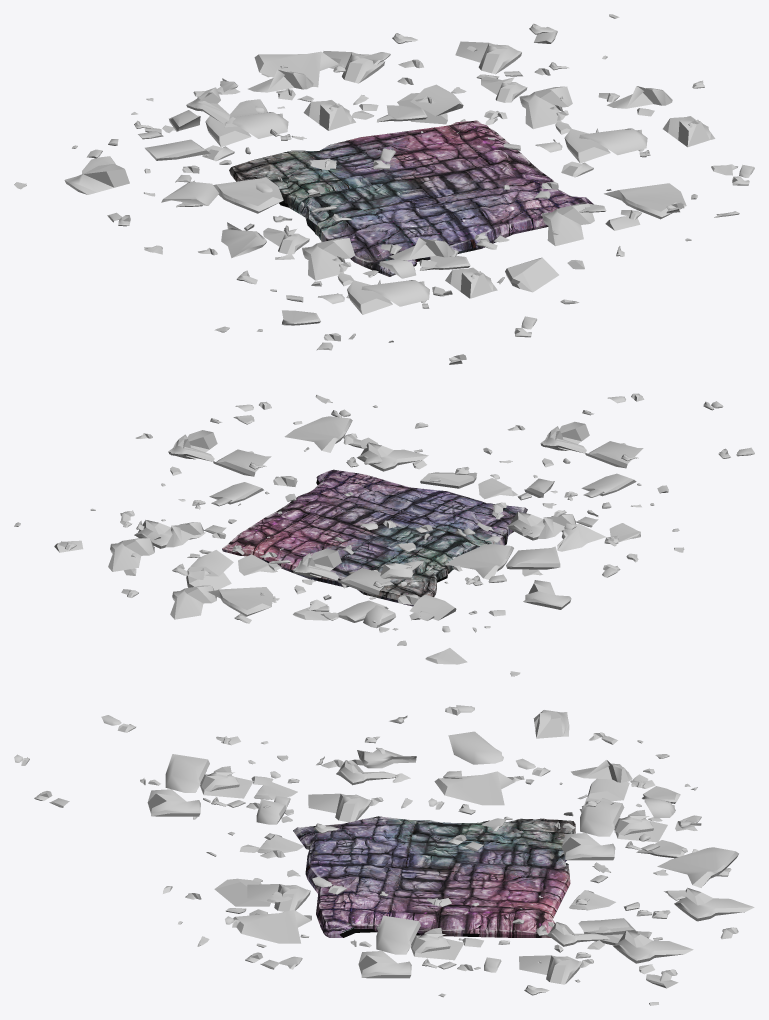
File: Platform.fbx
3 views of the same model, one above another, from view 1: azimuth 30°, elevation 25°; view 2: azimuth 150°, elevation 25°; view 3: azimuth 270°, elevation 25° (orthographic). The views are drawn at different scales.
Visible parts, largest first — view 1: polySurface1, pCube1; view 2: polySurface1, pCube1; view 3: polySurface1, pCube1.
Part boxes in pixels (x1=…): polySurface1: x1=14, y1=14, x2=754, y2=364; pCube1: x1=229, y1=120, x2=593, y2=276; polySurface1: x1=14, y1=393, x2=754, y2=676; pCube1: x1=222, y1=469, x2=527, y2=606; polySurface1: x1=14, y1=705, x2=754, y2=1005; pCube1: x1=293, y1=816, x2=575, y2=937.
Size of the model in its own units: 44.71 by 5.39 by 49.38.
